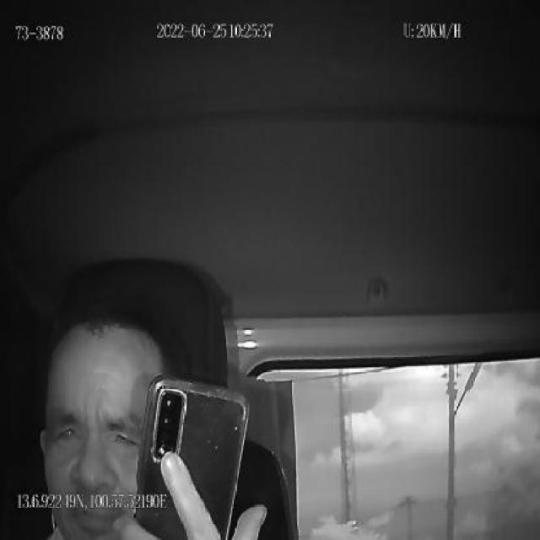phone: (135, 374, 248, 540)
